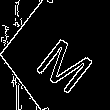M_NE: (25, 21, 96, 90)
